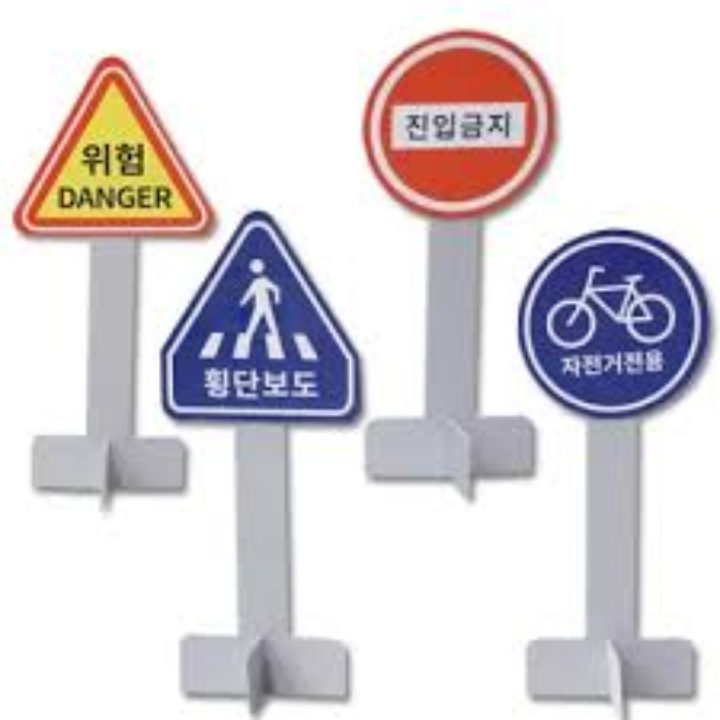bicycle: (539, 241, 679, 381)
cross: (191, 239, 329, 377)
